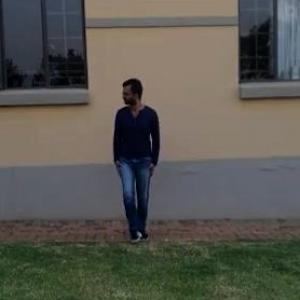follow: (111, 76, 159, 238)
